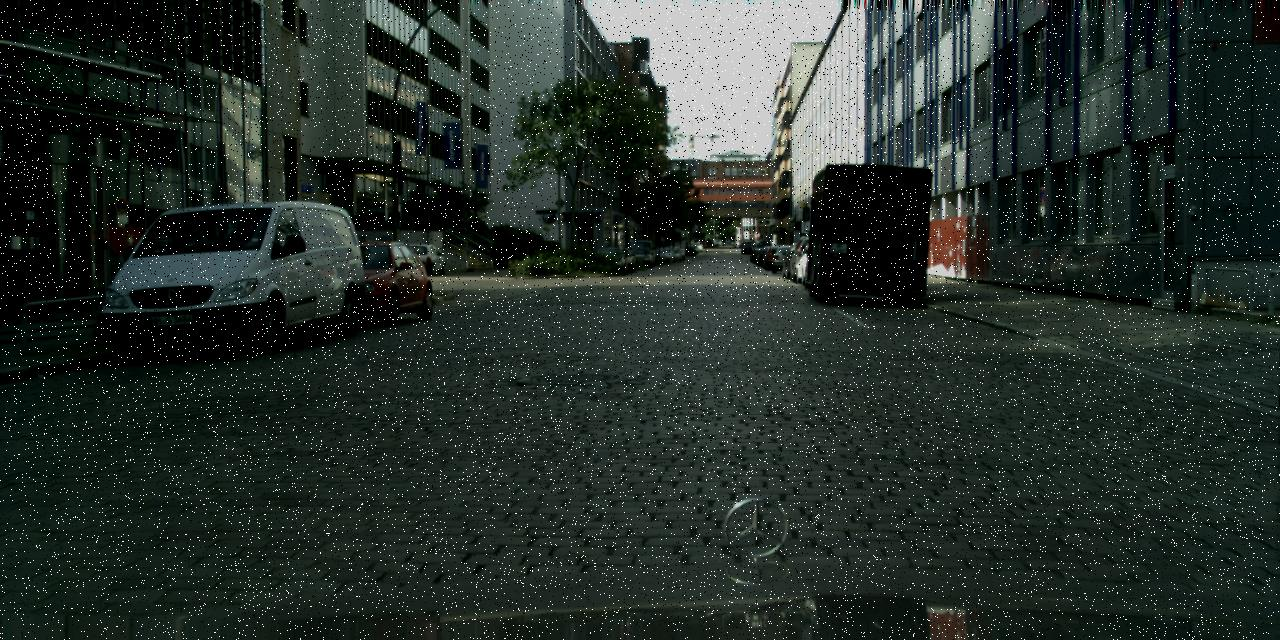ped: (702, 240, 706, 252)
